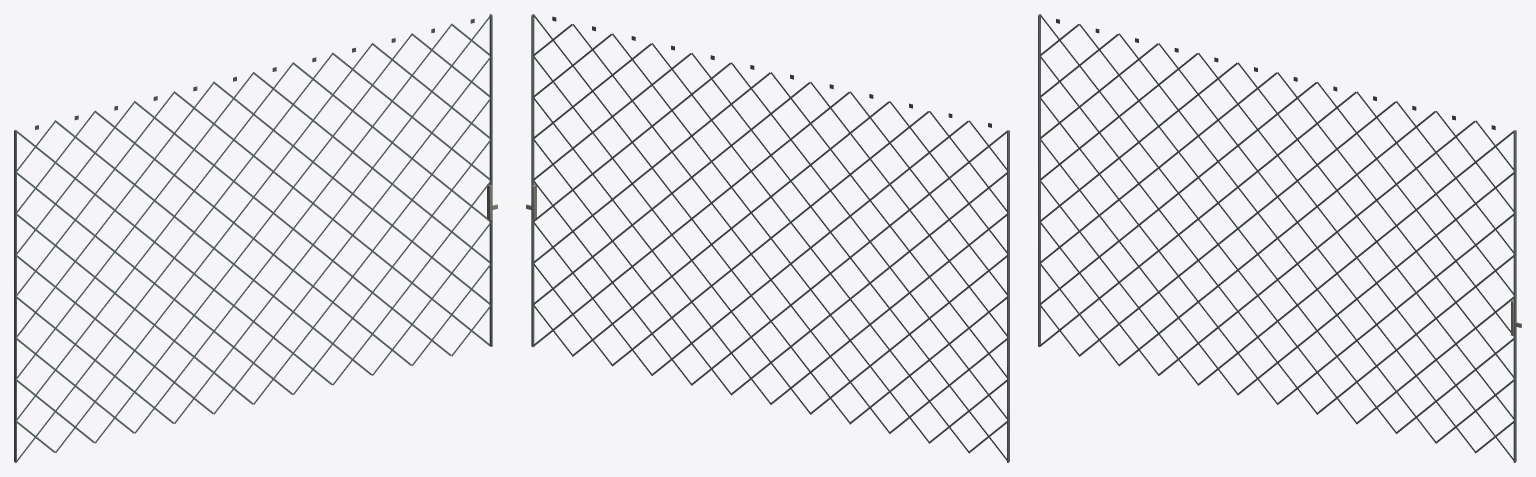
Rendered from CuaSatXep_Dong.glb.
3 renders of one model, left to right at view 1: azimuth 30°, elevation 25°; view 2: azimuth 150°, elevation 25°; view 3: azimuth 330°, elevation 25°, orthographic.
Parts seen in each view (by area): view 1: CuaSatXep_Dong; view 2: CuaSatXep_Dong; view 3: CuaSatXep_Dong.
Boxes of the visible parts, x1=… form: CuaSatXep_Dong: x1=14, y1=14, x2=497, y2=462; CuaSatXep_Dong: x1=526, y1=14, x2=1009, y2=462; CuaSatXep_Dong: x1=1038, y1=14, x2=1521, y2=462.
Bounding box in the file's own units: 3.66 × 2.41 × 0.04.
1 material, 1 textured.
